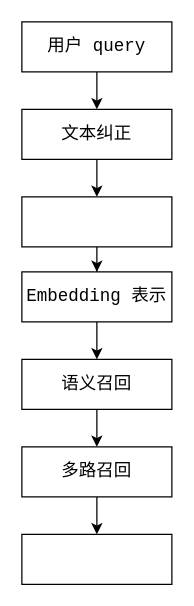
Some shapes in this 194 by 606 pixel diagram are drawn without their labels. The shapes that lost their labels are listed below. From the top down, each one's box as (x1, y1, x2, y2) in pixels, then its label:
(21, 196, 172, 247): 意图识别
(21, 533, 172, 584): 问题答案获取
